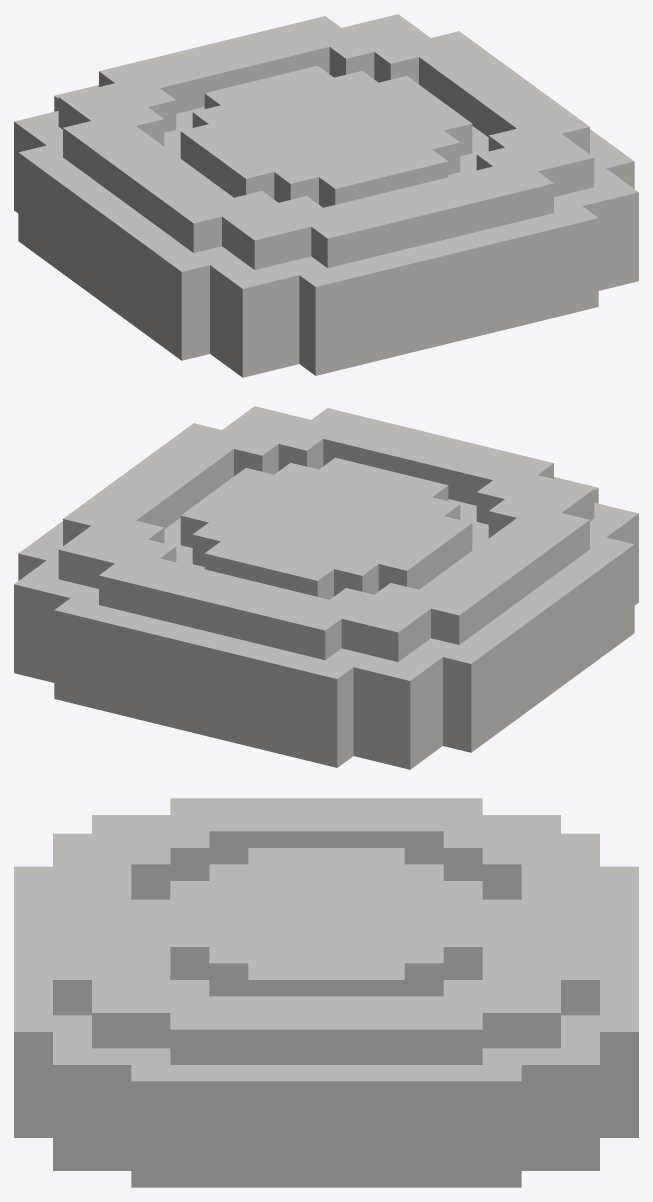
File: man-v2-white.gltf
3 views of the same model, one above another, from view 1: azimuth 30°, elevation 25°; view 2: azimuth 150°, elevation 25°; view 3: azimuth 270°, elevation 25° (orthographic). The views are drawn at different scales.
Parts seen in each view (by area): view 1: Untitled; view 2: Untitled; view 3: Untitled.
Boxes of the visible parts, x1,y1,x2,y2 form: Untitled: (14, 14, 638, 377); Untitled: (14, 406, 638, 769); Untitled: (14, 798, 638, 1187).
Bounding box in the file's own units: 1.6 × 0.4 × 1.6.
Materials: 1 (1 with a texture image).
